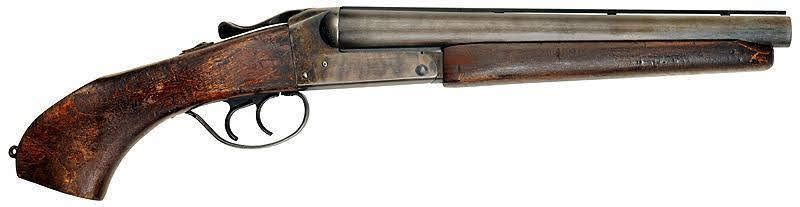gun: (10, 3, 788, 186)
